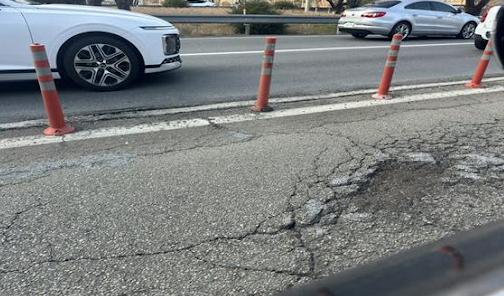pothole: (320, 110, 477, 236)
